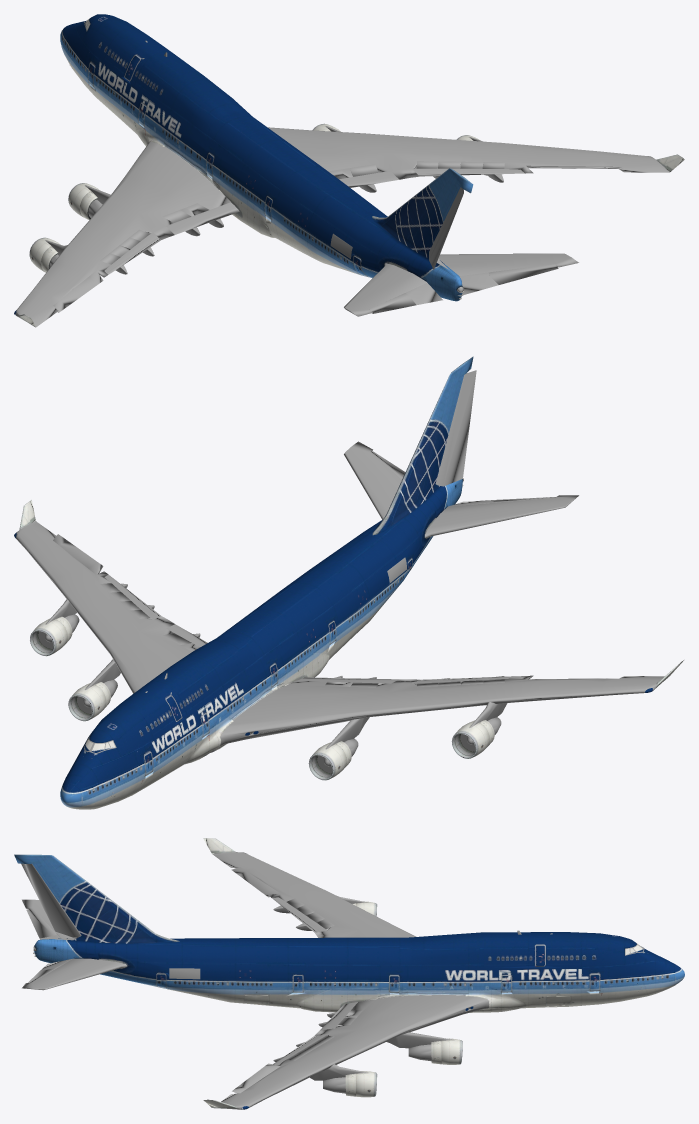
The picture shows the model from 3 angles, top to bottom: view 1: azimuth 30°, elevation 25°; view 2: azimuth 150°, elevation 25°; view 3: azimuth 270°, elevation 25°; orthographic projection. The views are drawn at different scales.
Parts seen in each view (by area): view 1: DSMesh_5_3, DSMesh_4_2, DSMesh_0_0, DSMesh_2_0, DSMesh_6_4, DSMesh_1_0, DSMesh_8_4; view 2: DSMesh_5_3, DSMesh_4_2, DSMesh_0_0, DSMesh_2_0, DSMesh_1_0, DSMesh_6_4, DSMesh_8_4; view 3: DSMesh_5_3, DSMesh_4_2, DSMesh_0_0, DSMesh_2_0, DSMesh_1_0.
Part boxes in pixels (x1,y1,x2,y2): DSMesh_5_3: [19, 14, 684, 327]; DSMesh_4_2: [16, 58, 669, 327]; DSMesh_0_0: [45, 126, 622, 313]; DSMesh_2_0: [29, 55, 479, 276]; DSMesh_6_4: [84, 22, 463, 299]; DSMesh_1_0: [429, 187, 463, 269]; DSMesh_8_4: [68, 183, 99, 219]; DSMesh_5_3: [19, 356, 683, 809]; DSMesh_4_2: [16, 441, 664, 752]; DSMesh_0_0: [26, 451, 618, 751]; DSMesh_2_0: [30, 559, 494, 775]; DSMesh_1_0: [435, 370, 476, 486]; DSMesh_6_4: [84, 478, 504, 773]; DSMesh_8_4: [308, 741, 351, 780]; DSMesh_5_3: [14, 838, 684, 1108]; DSMesh_4_2: [22, 852, 590, 1109]; DSMesh_0_0: [26, 867, 461, 1099]; DSMesh_2_0: [156, 901, 599, 1097]; DSMesh_1_0: [21, 863, 80, 937].
Size of the model in its own units: 64.77 by 18.57 by 69.98.
3 materials, 1 textured.
